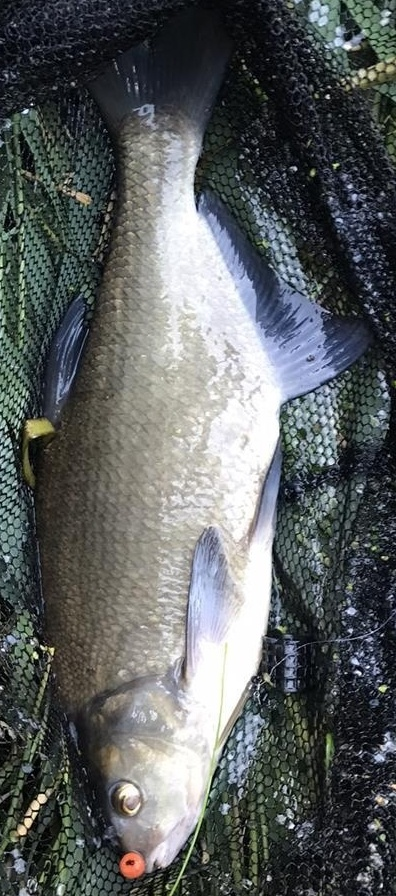Abramis brama: (20, 20, 376, 876)
